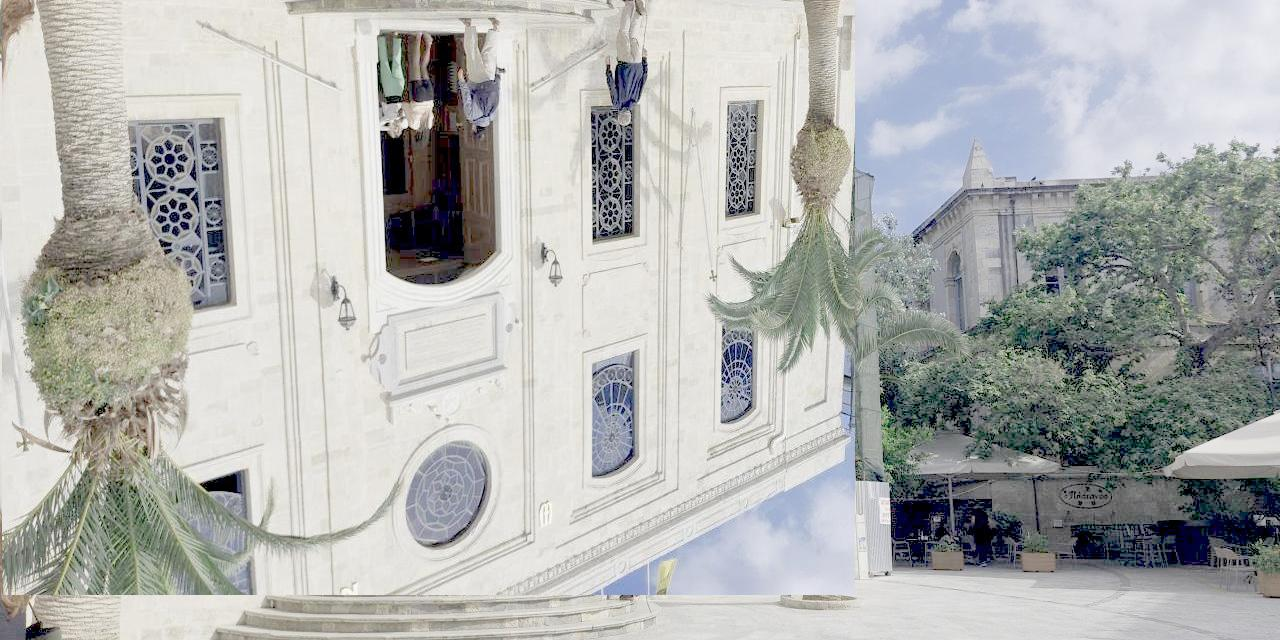Agios Titos: (3, 1, 856, 596)
